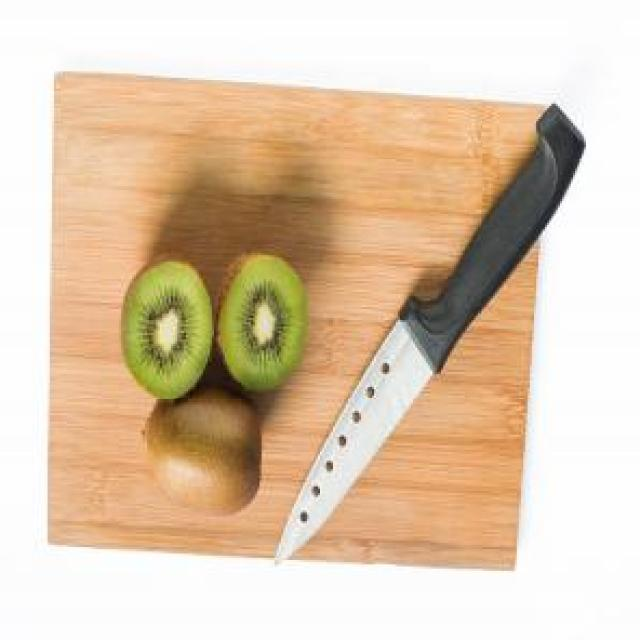knife: (272, 105, 587, 575)
